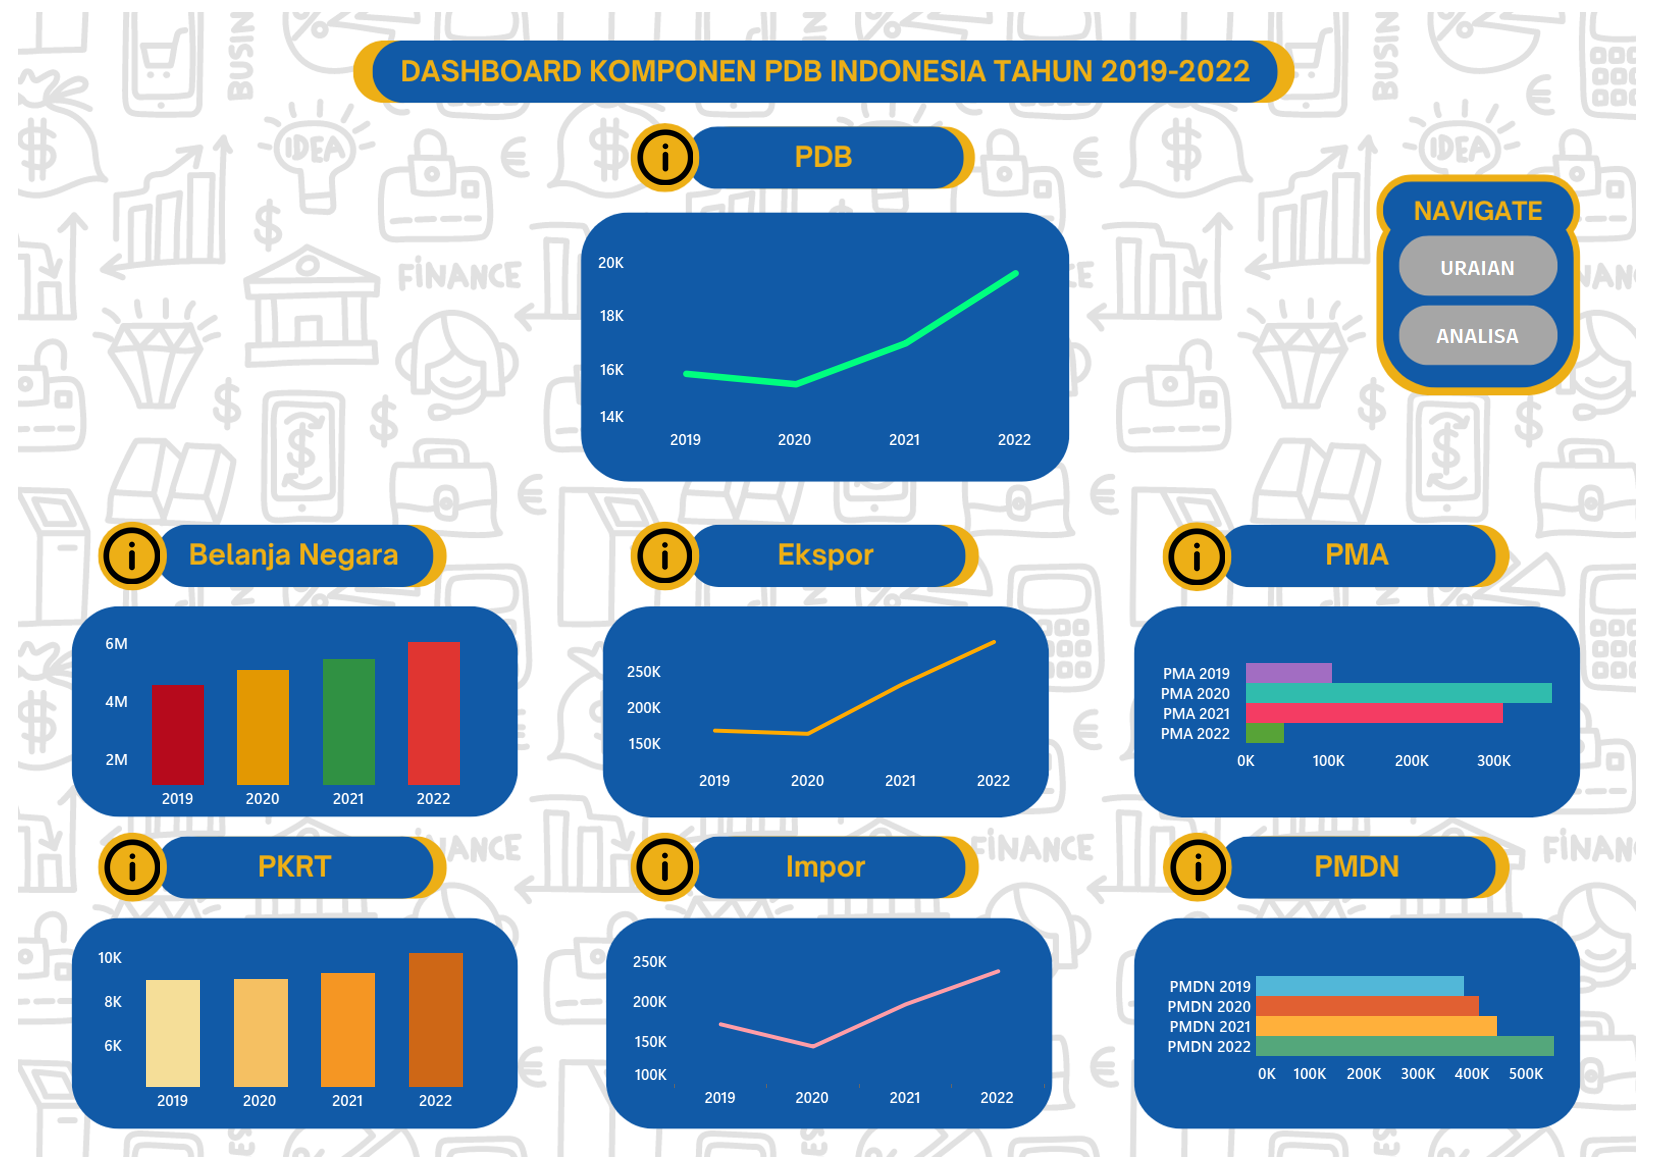

The page's visual inventory and layout, read from the dashboard file:
{"tool":"tableau","page":{"name":"PDB","canvas":[1654,1169],"ordinal":1},"visuals":[{"type":"image","param":"Image/1.png","box":[8,8,1638,1153]},{"type":"dashboard-object","box":[637,129,56,56]},{"type":"worksheet","title":"PDB Per Tahun","mark":"Line","rows":["Jumlah(Triliun IDR)"],"cols":["Tahun"],"box":[598,229,472,221]},{"type":"blank","box":[596,233,453,70]},{"type":"dashboard-object","box":[1416,245,123,44]},{"type":"text","box":[596,303,453,89]},{"type":"dashboard-object","box":[1416,313,123,44]},{"type":"blank","box":[596,392,453,70]},{"type":"dashboard-object","box":[103,527,58,57]},{"type":"dashboard-object","box":[636,528,58,55]},{"type":"dashboard-object","box":[1167,528,60,57]},{"type":"worksheet","title":"Pengeluaran Negara Per Tahun","mark":"Automatic","rows":["Jumlah(Miliar IDR)"],"cols":["Tahun (Pengeluaran Negara(Per Tahun))"],"box":[105,618,372,191]},{"type":"blank","box":[623,619,404,61]},{"type":"blank","box":[1156,620,403,44.5]},{"type":"blank","box":[95,622,397,61]},{"type":"worksheet","title":"Ekspor Per Tahun","mark":"Line","rows":["Jumlah(Juta US$) (Ekspor Per tahun)"],"cols":["Tahun (Ekspor Per tahun)"],"box":[626,623,414,168]},{"type":"worksheet","title":"PMA Per Tahun","mark":"Automatic","rows":["Tahun (PMA)"],"cols":["Nilai(Juta US$)"],"box":[1155,648,414,137]},{"type":"text","box":[1156,664.5,403,89]},{"type":"text","box":[623,680,404,62]},{"type":"text","box":[95,683,397,62]},{"type":"blank","box":[623,742,404,61]},{"type":"blank","box":[95,745,397,61]},{"type":"blank","box":[1156,753.5,403,44.5]},{"type":"dashboard-object","box":[636,838,57,57]},{"type":"dashboard-object","box":[1170,838,56,58]},{"type":"dashboard-object","box":[101,839,62,56]},{"type":"worksheet","title":"Impor Per Tahun","mark":"Line","rows":["Jumlah(Juta US$) (Impor Per Tahun)"],"cols":["Tahun (Impor Per Tahun)"],"box":[632,915,412,193]},{"type":"worksheet","title":"PKRT Per Tahun","mark":"Automatic","rows":["Jumlah(Triliun IDR) (PKRT)"],"cols":["Tahun (PKRT)"],"box":[98,927,382,184]},{"type":"blank","box":[92,933,403,44.5]},{"type":"blank","box":[627,935,403,58]},{"type":"blank","box":[1155,937,403,44.5]},{"type":"worksheet","title":"PMDN Per Tahun","mark":"Automatic","rows":["Tahun (PMDN)"],"cols":["Jumlah(Miliar IDR) (PMDN)"],"box":[1156,961,413,138]},{"type":"text","box":[92,977.5,403,89]},{"type":"text","box":[1155,981.5,403,89]},{"type":"text","box":[627,993,403,62]},{"type":"blank","box":[627,1055,403,58]},{"type":"blank","box":[92,1066.5,403,44.5]},{"type":"blank","box":[1155,1070.5,403,44.5]}]}

Visuals, with their boxes in screenshot pixels (x1, y1, x2, y2), scaled from the page's 1654x1169 canvas onto the 1654x1169 screenshot:
image: [8, 8, 1646, 1161]
dashboard-object: [637, 129, 693, 185]
"PDB Per Tahun" worksheet (Line marks): [598, 229, 1070, 450]
blank: [596, 233, 1049, 303]
dashboard-object: [1416, 245, 1539, 289]
text: [596, 303, 1049, 392]
dashboard-object: [1416, 313, 1539, 357]
blank: [596, 392, 1049, 462]
dashboard-object: [103, 527, 161, 584]
dashboard-object: [636, 528, 694, 583]
dashboard-object: [1167, 528, 1227, 585]
"Pengeluaran Negara Per Tahun" worksheet: [105, 618, 477, 809]
blank: [623, 619, 1027, 680]
blank: [1156, 620, 1559, 664]
blank: [95, 622, 492, 683]
"Ekspor Per Tahun" worksheet (Line marks): [626, 623, 1040, 791]
"PMA Per Tahun" worksheet: [1155, 648, 1569, 785]
text: [1156, 664, 1559, 754]
text: [623, 680, 1027, 742]
text: [95, 683, 492, 745]
blank: [623, 742, 1027, 803]
blank: [95, 745, 492, 806]
blank: [1156, 754, 1559, 798]
dashboard-object: [636, 838, 693, 895]
dashboard-object: [1170, 838, 1226, 896]
dashboard-object: [101, 839, 163, 895]
"Impor Per Tahun" worksheet (Line marks): [632, 915, 1044, 1108]
"PKRT Per Tahun" worksheet: [98, 927, 480, 1111]
blank: [92, 933, 495, 978]
blank: [627, 935, 1030, 993]
blank: [1155, 937, 1558, 982]
"PMDN Per Tahun" worksheet: [1156, 961, 1569, 1099]
text: [92, 978, 495, 1066]
text: [1155, 982, 1558, 1070]
text: [627, 993, 1030, 1055]
blank: [627, 1055, 1030, 1113]
blank: [92, 1066, 495, 1111]
blank: [1155, 1070, 1558, 1115]
